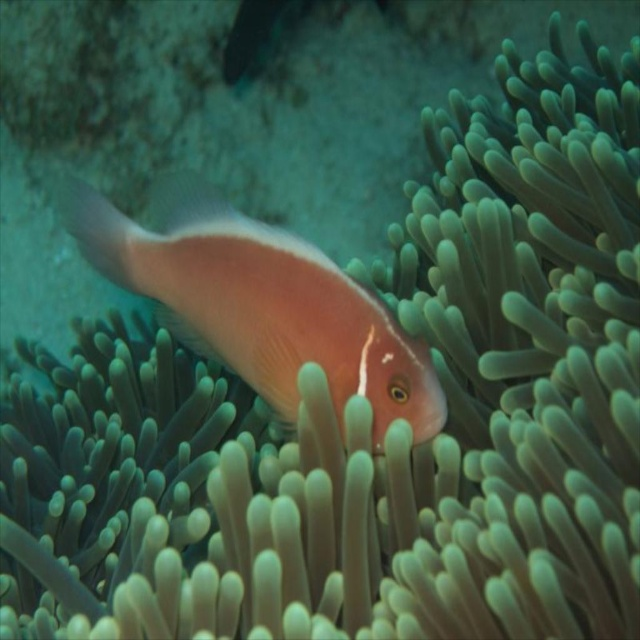Fish: (58, 168, 448, 455)
